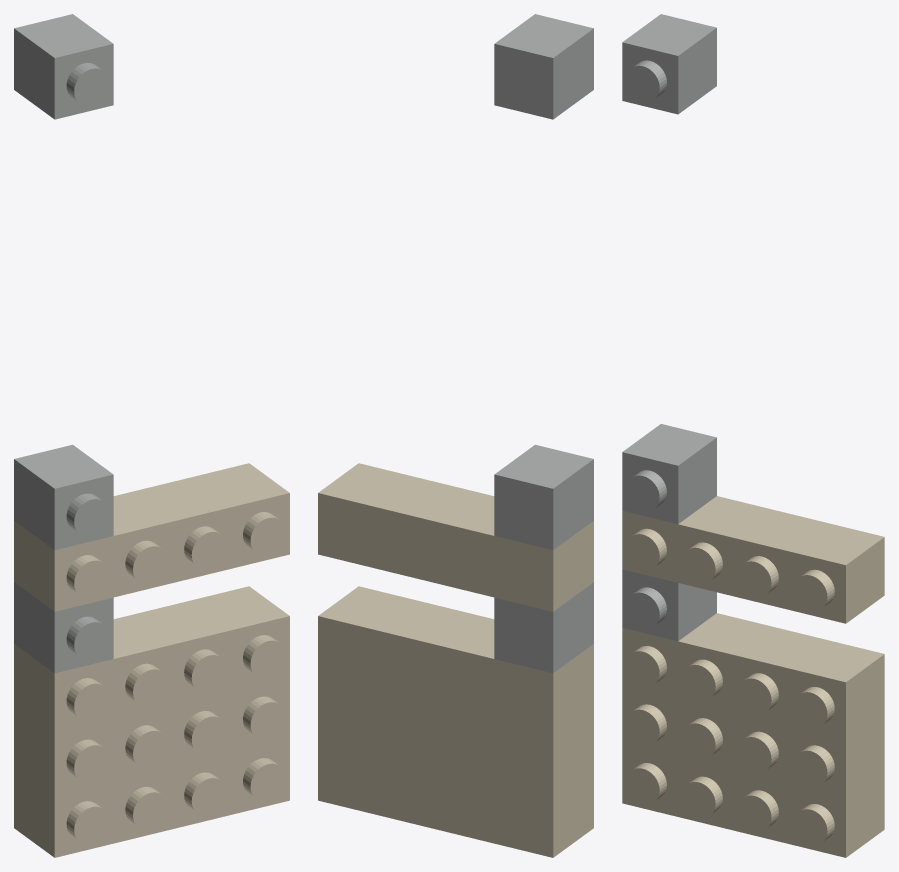
Rendered from current.glb.
3 renders of one model, left to right at view 1: azimuth 30°, elevation 25°; view 2: azimuth 150°, elevation 25°; view 3: azimuth 330°, elevation 25°, orthographic. The views are drawn at different scales.
Parts seen in each view (by area): view 1: world; view 2: world; view 3: world.
Part boxes in pixels (x1,y1,x2,y2): world: (14,14,289,857); world: (318,14,593,857); world: (622,14,884,857).
Bounding box in the file's own units: 32 × 104 × 11.4.
